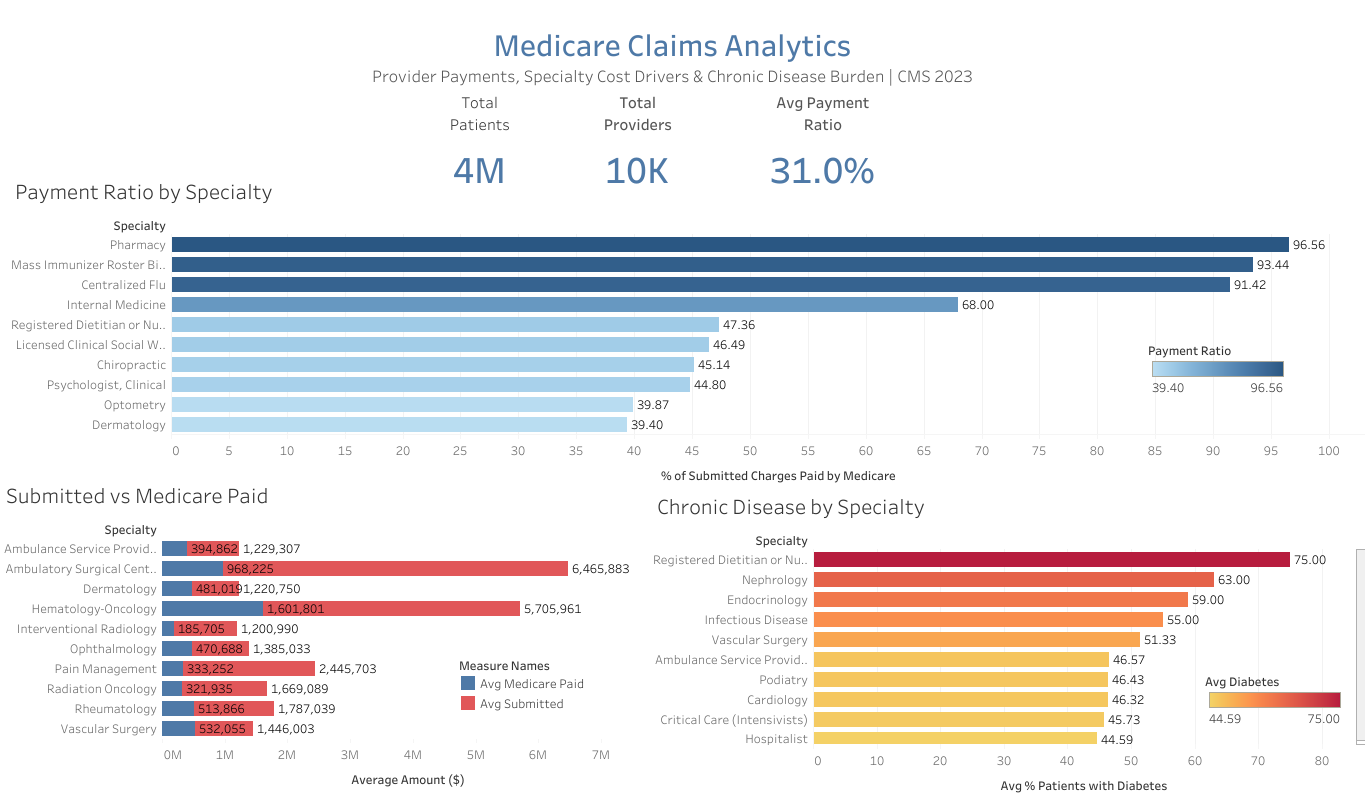

The dashboard page shown, as its layout file describes it:
{"tool":"tableau","page":{"name":"Medicare Dashboard","canvas":[1366,800],"ordinal":1},"visuals":[{"type":"text","box":[249,13,847,84]},{"type":"worksheet","title":"KPI- Total Patients","mark":"Text","box":[436,81,158,140]},{"type":"worksheet","title":"KPI- Total Providers","mark":"Automatic","box":[594,81,165,140]},{"type":"worksheet","title":"KPI- Avg Payment Ratio","mark":"Automatic","box":[759,81,128,140]},{"type":"legend","title":"Payment Ratio by Specialty","param":"[federated.0hyn5fk0m5l45115jg3xf0ivw1vq].[sum:payment_ratio:qk]","box":[1148,337,140,80]},{"type":"worksheet","title":"Submitted vs Medicare Paid","mark":"Bar","rows":["specialty"],"cols":["avg_submitted","avg_medicare_paid"],"box":[2,475,652,325]},{"type":"legend","title":"Submitted vs Medicare Paid","param":"[federated.0hyn5fk0m5l45115jg3xf0ivw1vq].[:Measure Names]","box":[458,654,140,59]},{"type":"legend","title":"Chronic Disease by Specialty","param":"[federated.0hyn5fk0m5l45115jg3xf0ivw1vq].[sum:avg_diabetes:qk]","box":[1205,668,140,80]}]}

Visuals, with their boxes in screenshot pixels (x1, y1, x2, y2), scaled from the page's 1366x800 canvas onto the 1365x799 screenshot:
text: left=249, top=13, right=1095, bottom=97
"KPI- Total Patients" worksheet (Text marks): left=436, top=81, right=594, bottom=221
"KPI- Total Providers" worksheet: left=594, top=81, right=758, bottom=221
"KPI- Avg Payment Ratio" worksheet: left=758, top=81, right=886, bottom=221
"Payment Ratio by Specialty" legend: left=1147, top=337, right=1287, bottom=416
"Submitted vs Medicare Paid" worksheet (Bar marks): left=2, top=474, right=654, bottom=798
"Submitted vs Medicare Paid" legend: left=458, top=653, right=598, bottom=712
"Chronic Disease by Specialty" legend: left=1204, top=667, right=1344, bottom=747
